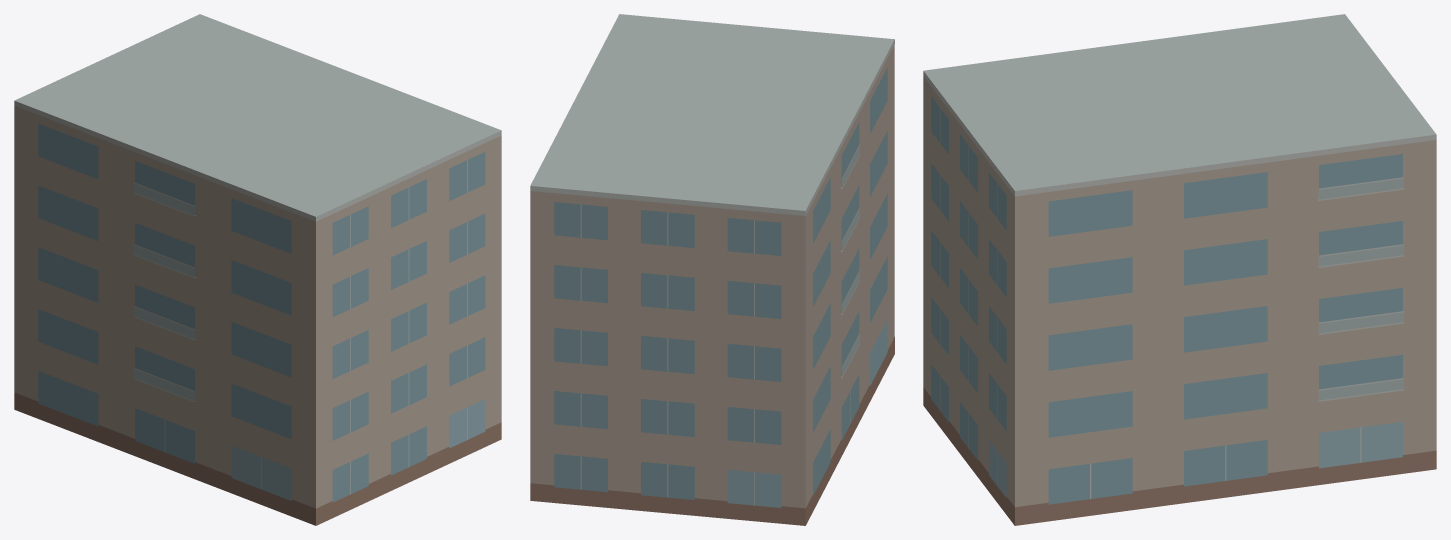
The model's file is survey-upis-32637486.glb.
3 renders of one model, left to right at view 1: azimuth 30°, elevation 25°; view 2: azimuth 150°, elevation 25°; view 3: azimuth 270°, elevation 25°, orthographic. The views are drawn at different scales.
Parts seen in each view (by area): view 1: survey-upis-32637486.tmp; view 2: survey-upis-32637486.tmp; view 3: survey-upis-32637486.tmp.
Part boxes in pixels (box(x1,y1,x2,y2)): survey-upis-32637486.tmp: box(14, 14, 501, 525); survey-upis-32637486.tmp: box(530, 14, 894, 525); survey-upis-32637486.tmp: box(923, 14, 1436, 525).
Size of the model in its own units: 17.26 by 15.2 by 21.13.
